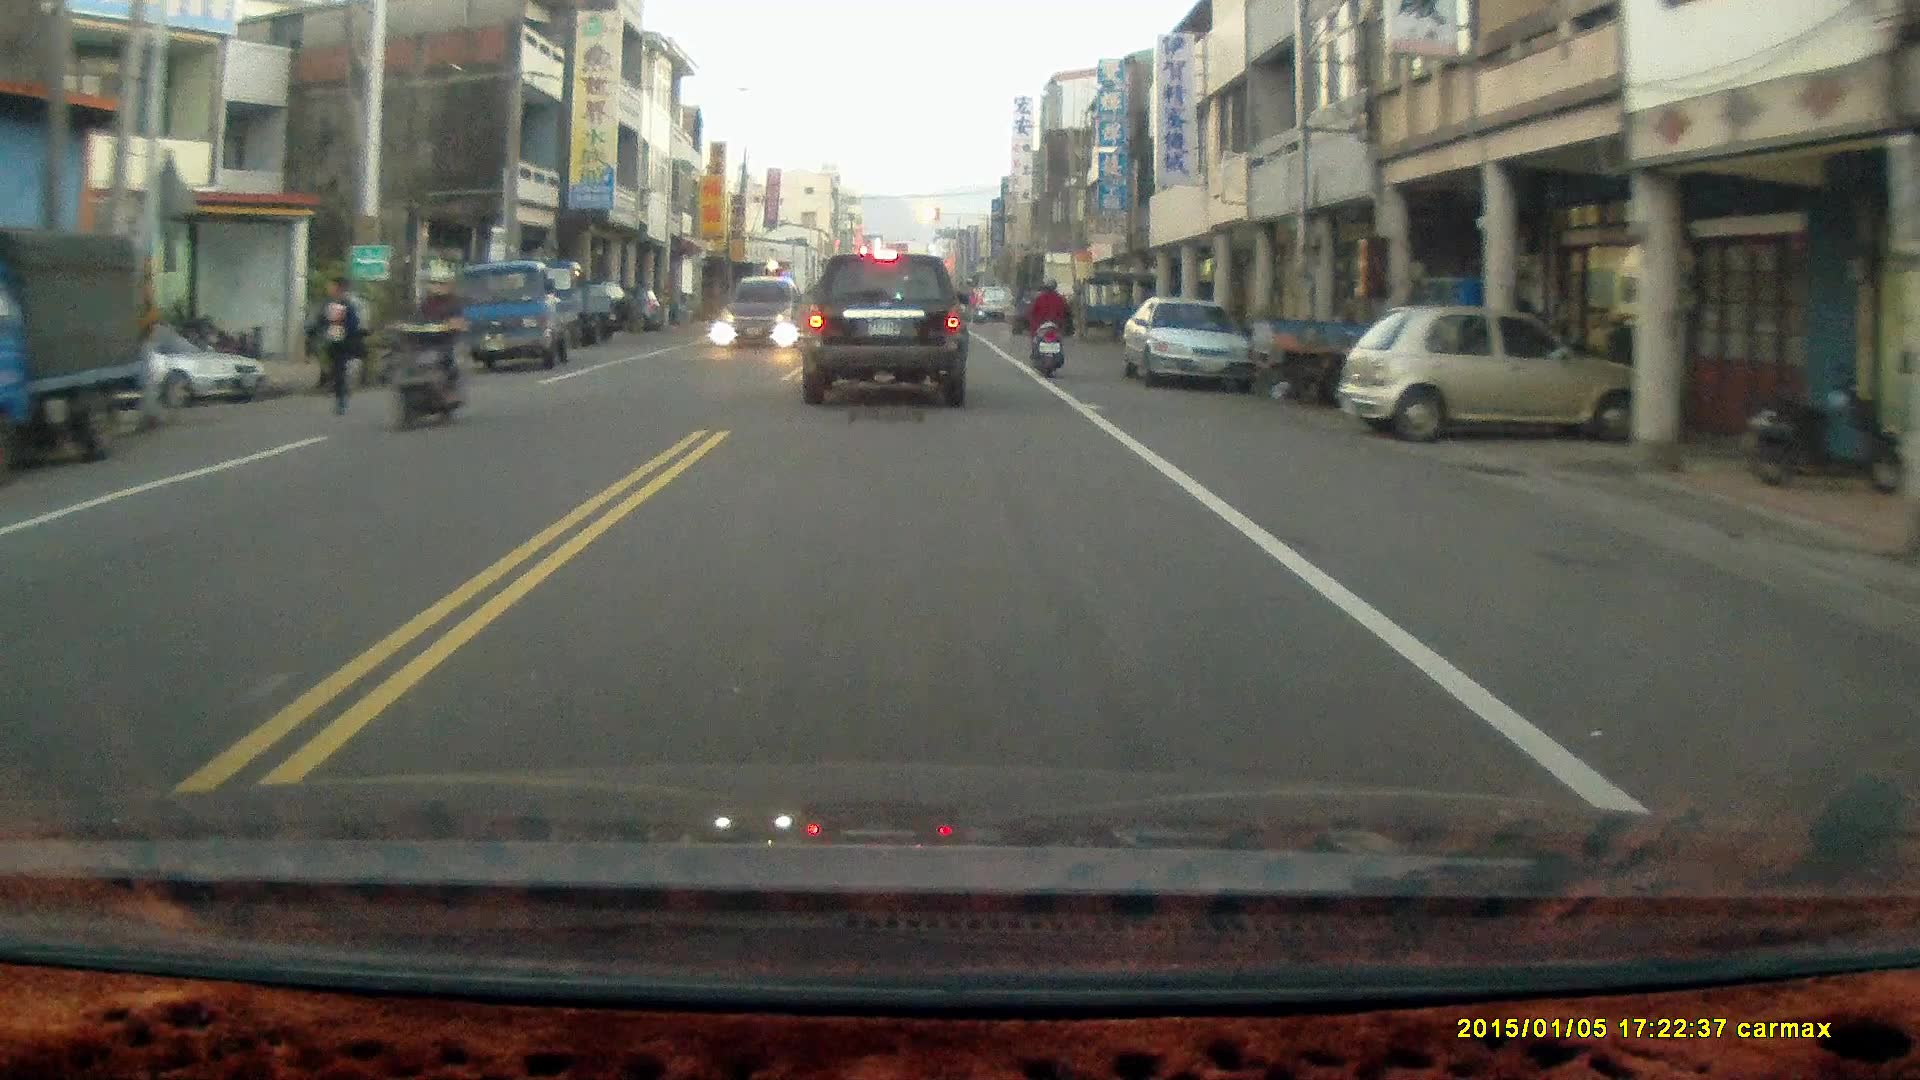pedestrian: (303, 273, 367, 416)
rider: (378, 258, 466, 436), (1027, 274, 1068, 376)
vehicle: (1348, 308, 1649, 448), (1, 226, 150, 488), (795, 251, 972, 414), (449, 265, 599, 376), (89, 317, 264, 406), (1123, 302, 1263, 393), (718, 276, 802, 350)
